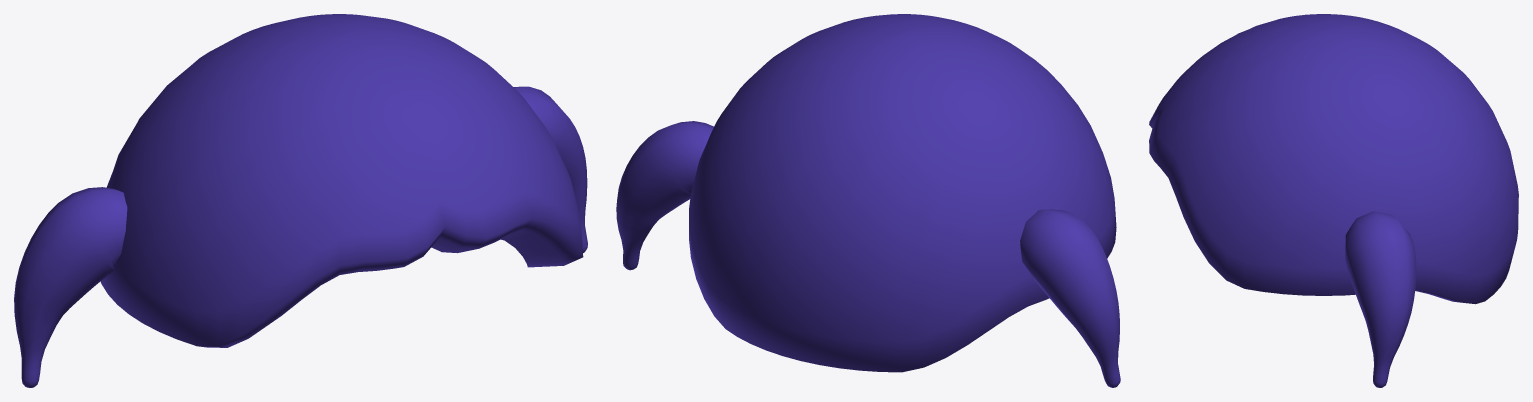
The model's file is hair-pigtails.glb.
3 views of the same model, side by side, from view 1: azimuth 30°, elevation 25°; view 2: azimuth 150°, elevation 25°; view 3: azimuth 270°, elevation 25° (orthographic). The views are drawn at different scales.
Visible parts, largest first — view 1: hair-pigtails-mesh; view 2: hair-pigtails-mesh; view 3: hair-pigtails-mesh.
Part boxes in pixels (x1=…): hair-pigtails-mesh: x1=14, y1=14, x2=587, y2=387; hair-pigtails-mesh: x1=616, y1=14, x2=1120, y2=387; hair-pigtails-mesh: x1=1149, y1=14, x2=1518, y2=387.
Bounding box in the file's own units: 2.92 × 1.52 × 2.06.
